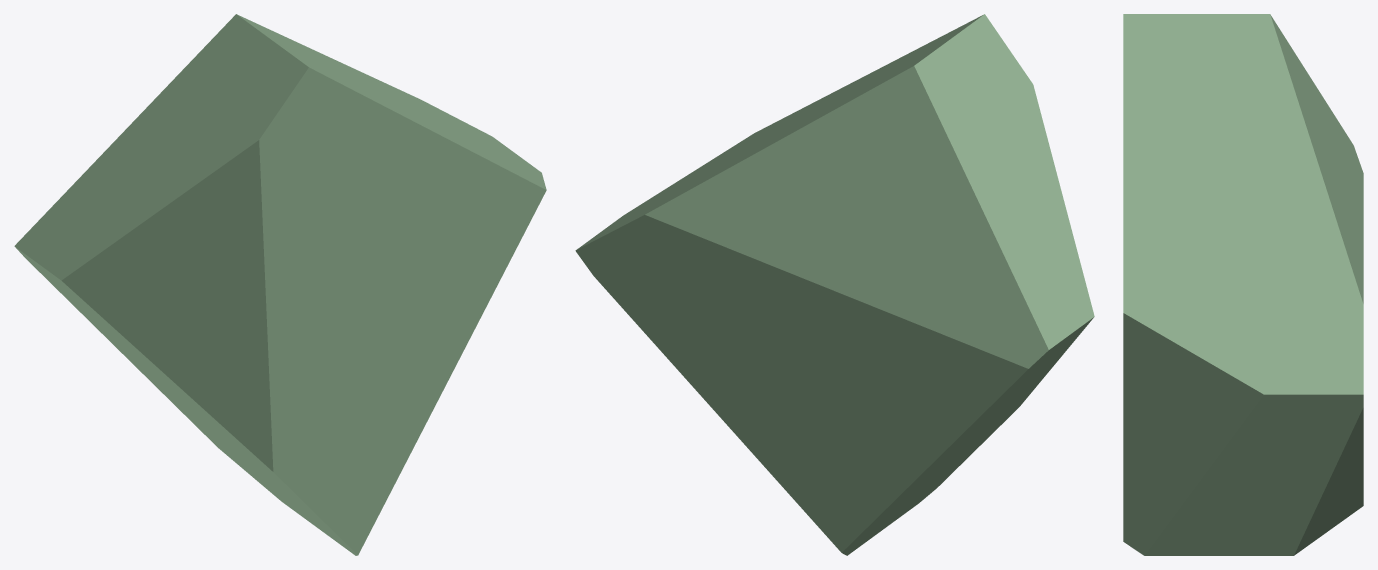
Rendered from convex_rock5.obj.
The picture shows the model from 3 angles, left to right: view 1: azimuth 30°, elevation 25°; view 2: azimuth 150°, elevation 25°; view 3: azimuth 270°, elevation 25°; orthographic projection. The views are drawn at different scales.
Parts seen in each view (by area): view 1: Rock5\Solid; view 2: Rock5\Solid; view 3: Rock5\Solid.
Part boxes in pixels (x1,y1,x2,y2): Rock5\Solid: (14,14,546,555); Rock5\Solid: (575,14,1094,555); Rock5\Solid: (1123,14,1363,555).
Size of the model in its own units: 1291 by 1303 by 552.
